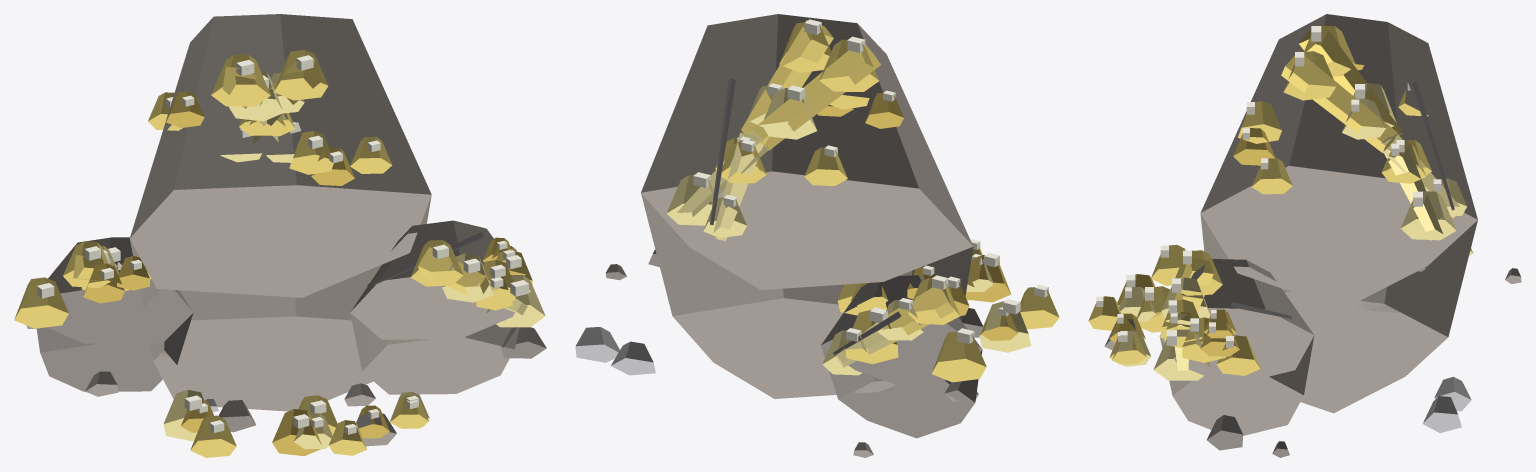
Rendered from gold_3.glb.
3 renders of one model, left to right at view 1: azimuth 30°, elevation 25°; view 2: azimuth 150°, elevation 25°; view 3: azimuth 270°, elevation 25°, orthographic. The views are drawn at different scales.
Visible parts, largest first — view 1: Boulder#2, Boulder, Boulder#6, Boulder#5, Boulder#4, Boulder#3, Nugget#20, Nugget, Nugget#5, Nugget#41, Nugget#13, Vein#7 (+25 smaller); view 2: Boulder#2, Boulder, Boulder#3, Boulder#4, Vein, Vein#3, Nugget#20, Vein#4, Vein#5, Nugget#33, Pebble#3, Nugget#41 (+20 smaller); view 3: Boulder#2, Boulder, Boulder#6, Boulder#5, Vein#3, Vein, Vein#2, Nugget#4, Nugget#13, Nugget#26, Nugget#27, Nugget#11 (+25 smaller).
Boxes of the visible parts, <box> form: Boulder#2: <box>129,14,431,297</box>; Boulder: <box>130,195,431,411</box>; Boulder#6: <box>350,220,514,339</box>; Boulder#5: <box>350,313,519,394</box>; Boulder#4: <box>47,237,193,343</box>; Boulder#3: <box>36,313,193,391</box>; Nugget#20: <box>14,277,68,328</box>; Nugget: <box>211,54,270,106</box>; Nugget#5: <box>274,50,328,100</box>; Nugget#41: <box>190,415,236,457</box>; Nugget#13: <box>289,131,333,174</box>; Vein#7: <box>418,247,489,295</box>; Boulder#2: <box>641,14,973,289</box>; Boulder: <box>641,193,973,398</box>; Boulder#3: <box>821,345,982,438</box>; Boulder#4: <box>821,275,982,391</box>; Vein: <box>752,44,880,150</box>; Vein#3: <box>741,20,833,144</box>; Nugget#20: <box>931,331,986,382</box>; Vein#4: <box>712,132,763,241</box>; Vein#5: <box>879,287,953,343</box>; Nugget#33: <box>979,301,1030,352</box>; Pebble#3: <box>575,327,619,362</box>; Nugget#41: <box>1020,287,1059,329</box>; Boulder#2: <box>1200,14,1477,309</box>; Boulder: <box>1200,213,1477,413</box>; Boulder#6: <box>1160,259,1314,385</box>; Boulder#5: <box>1159,336,1314,435</box>; Vein#3: <box>1281,51,1397,152</box>; Vein: <box>1299,24,1401,133</box>; Vein#2: <box>1381,133,1442,240</box>; Nugget#4: <box>1400,191,1456,240</box>; Nugget#13: <box>1238,101,1281,143</box>; Nugget#26: <box>1153,329,1210,380</box>; Nugget#27: <box>1216,335,1260,375</box>; Nugget#11: <box>1251,158,1292,194</box>.
Bounding box in the file's own units: 2.87 × 1.91 × 2.49.
